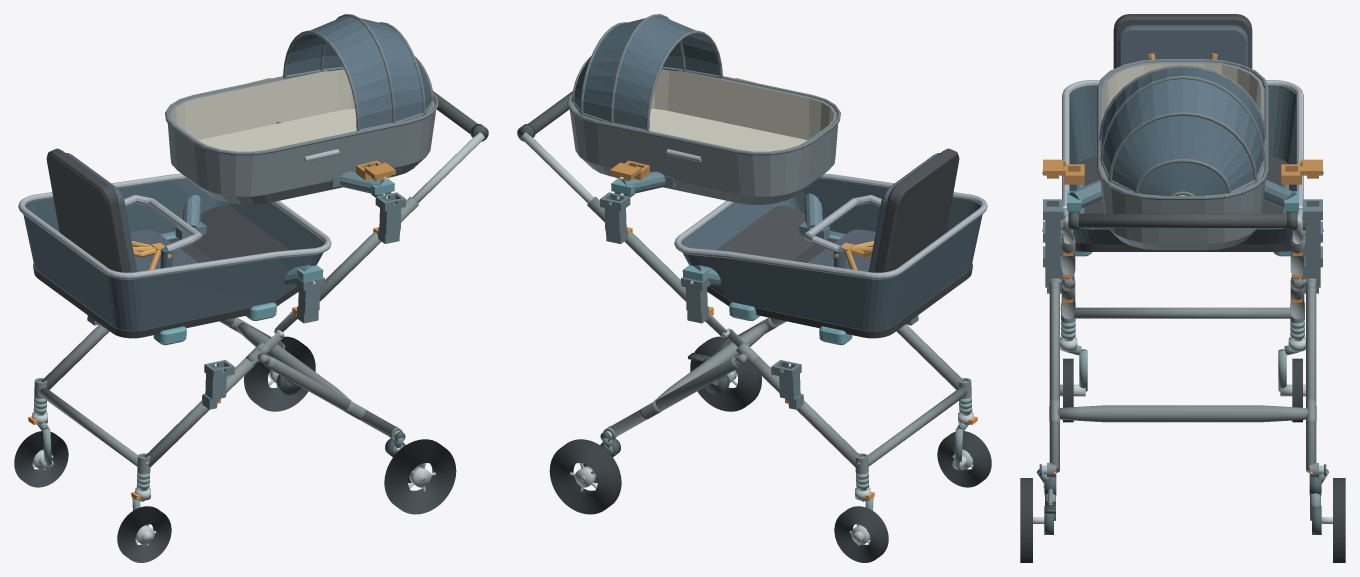
Rendered from D21_w650_state1_wheel_S.glb.
3 renders of one model, left to right at view 1: azimuth 30°, elevation 25°; view 2: azimuth 150°, elevation 25°; view 3: azimuth 270°, elevation 25°, orthographic. The views are drawn at different scales.
Parts seen in each view (by area): view 1: D21_Lower, D21_Upper, RL_tire.008, RR_tire.008, FL_tire.008, FR_tire.008, V46_rear_leg_-1.009, main_lower_-1.009, D21_Lower_Mount_M, front_fixed_round_tube.008, main_upper_-1.009, V46_rearbar.009 (+8 smaller); view 2: D21_Lower, D21_Upper, RR_tire.008, FR_tire.008, RL_tire.008, FL_tire.008, V46_rear_leg_1.009, main_lower_1.009, D21_Lower_Mount_M, front_fixed_round_tube.008, main_upper_1.009, V46_rearbar.009 (+8 smaller); view 3: D21_Upper, D21_Lower, V46_rearbar.009, round_handle.008, front_fixed_round_tube.008, V46_rear_leg_1.009, V46_rear_leg_-1.009, D21_Upper_Mount_H, RL_tire.008, RR_tire.008, Universal_Cabin_Receiver_H_1, Universal_Cabin_Receiver_H_-1 (+10 smaller).
Boxes of the visible parts, <box> form: D21_Lower: <box>18,148,331,345</box>; D21_Upper: <box>165,14,438,204</box>; RL_tire.008: <box>384,439,456,514</box>; RR_tire.008: <box>244,336,315,411</box>; FL_tire.008: <box>117,506,171,562</box>; FR_tire.008: <box>14,431,68,487</box>; V46_rear_leg_-1.009: <box>266,357,395,436</box>; main_lower_-1.009: <box>144,357,257,467</box>; D21_Lower_Mount_M: <box>175,194,323,286</box>; front_fixed_round_tube.008: <box>38,388,137,466</box>; main_upper_-1.009: <box>319,196,418,301</box>; V46_rearbar.009: <box>237,322,352,401</box>; D21_Lower: <box>674,148,987,345</box>; D21_Upper: <box>567,14,840,204</box>; RR_tire.008: <box>549,439,621,514</box>; FR_tire.008: <box>834,506,888,562</box>; RL_tire.008: <box>690,336,761,411</box>; FL_tire.008: <box>937,431,991,487</box>; V46_rear_leg_1.009: <box>610,357,739,436</box>; main_lower_1.009: <box>748,357,861,467</box>; D21_Lower_Mount_M: <box>682,193,830,285</box>; front_fixed_round_tube.008: <box>868,388,967,466</box>; main_upper_1.009: <box>587,196,686,301</box>; V46_rearbar.009: <box>653,322,768,401</box>; D21_Upper: <box>1097,59,1268,250</box>; D21_Lower: <box>1062,14,1303,256</box>; V46_rearbar.009: <box>1058,405,1307,422</box>; round_handle.008: <box>1068,213,1297,227</box>; front_fixed_round_tube.008: <box>1073,307,1292,318</box>; V46_rear_leg_1.009: <box>1306,286,1316,472</box>; V46_rear_leg_-1.009: <box>1049,286,1059,472</box>; D21_Upper_Mount_H: <box>1063,179,1302,213</box>; RL_tire.008: <box>1020,478,1032,562</box>; RR_tire.008: <box>1333,478,1345,562</box>; Universal_Cabin_Receiver_H_1: <box>1302,199,1322,256</box>; Universal_Cabin_Receiver_H_-1: <box>1043,199,1063,256</box>.
Bounding box in the file's own units: 1.13 × 1.27 × 0.766.
